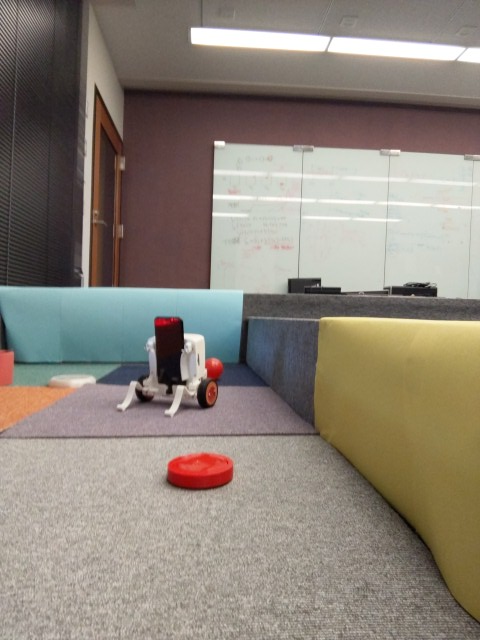f: (115, 311, 221, 419)
o: (46, 368, 98, 391)
